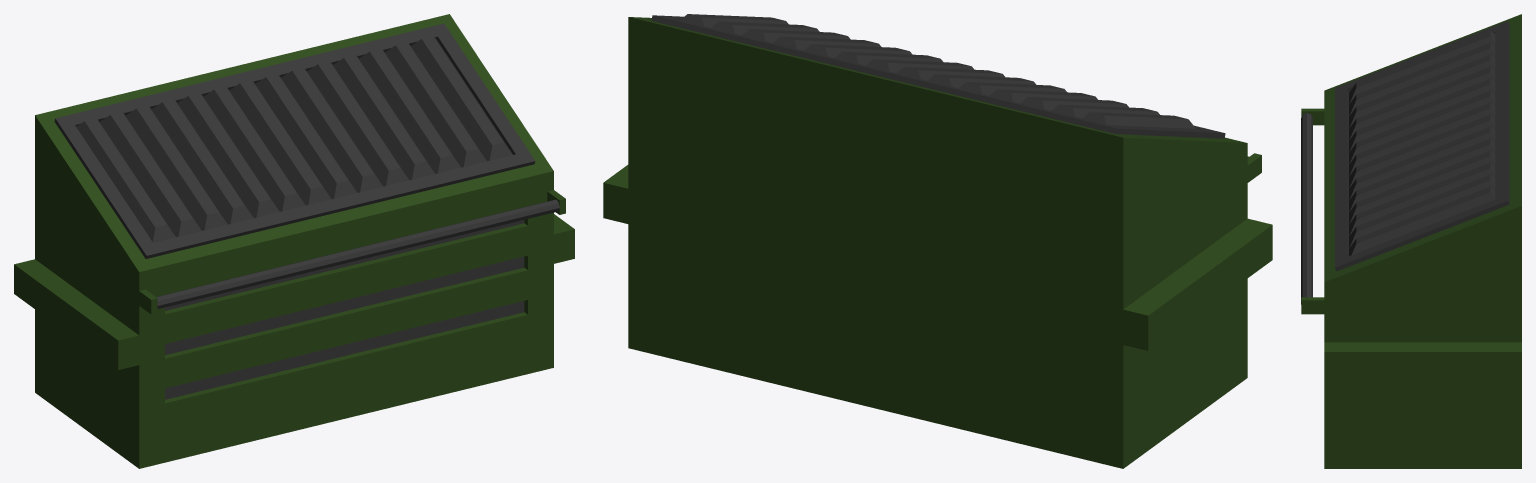
File: Dumpster.glb
The picture shows the model from 3 angles, left to right: view 1: azimuth 30°, elevation 25°; view 2: azimuth 150°, elevation 25°; view 3: azimuth 270°, elevation 25°; orthographic projection. The views are drawn at different scales.
Parts seen in each view (by area): view 1: Dumpster; view 2: Dumpster; view 3: Dumpster.
Boxes of the visible parts, x1,y1,x2,y2 form: Dumpster: [14, 14, 574, 468]; Dumpster: [603, 14, 1272, 468]; Dumpster: [1301, 14, 1521, 468].
Size of the model in its own units: 2.2 by 1.28 by 0.9737.
